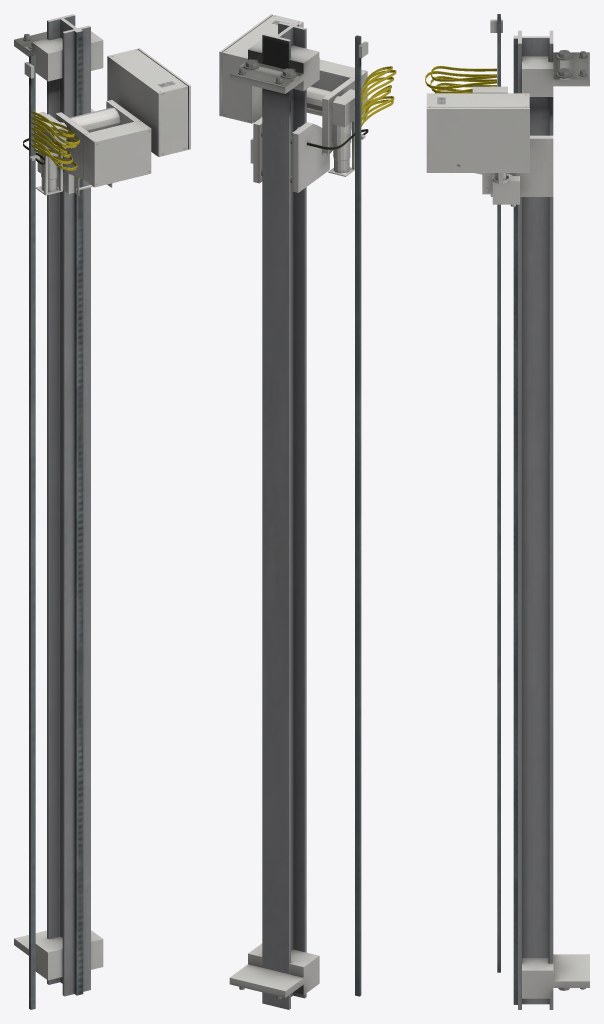
Rendered from pontRoulandBiPoutrePoutreMobile-hd03.fbx.
The picture shows the model from 3 angles, left to right: view 1: azimuth 30°, elevation 25°; view 2: azimuth 150°, elevation 25°; view 3: azimuth 270°, elevation 25°; orthographic projection.
Visible parts, largest first — view 1: ShapeIndexedFaceSet; view 2: ShapeIndexedFaceSet; view 3: ShapeIndexedFaceSet.
Part boxes in pixels (left/top/right/bottom): ShapeIndexedFaceSet: left=14, top=14, right=190, bottom=1009; ShapeIndexedFaceSet: left=219, top=14, right=396, bottom=1009; ShapeIndexedFaceSet: left=425, top=14, right=589, bottom=1009.
Bounding box in the file's own units: 1.27 × 9.07 × 1.4.
